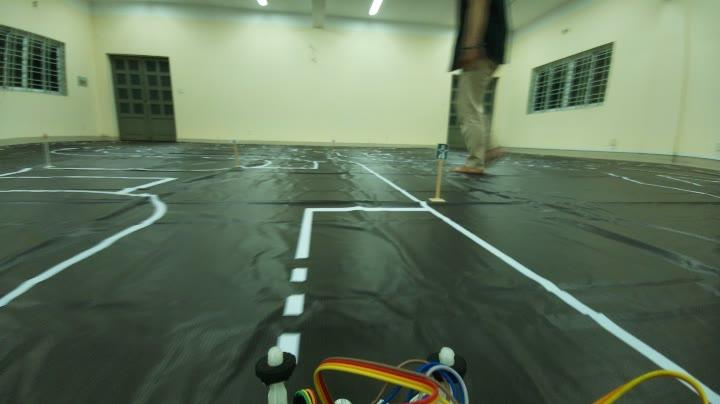highway_exit: (434, 140, 454, 166)
